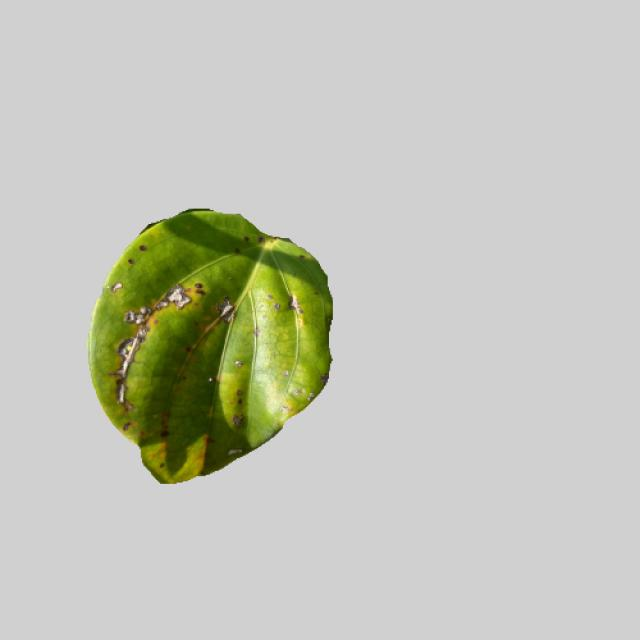yellow-mottle-virus: (79, 205, 342, 481)
